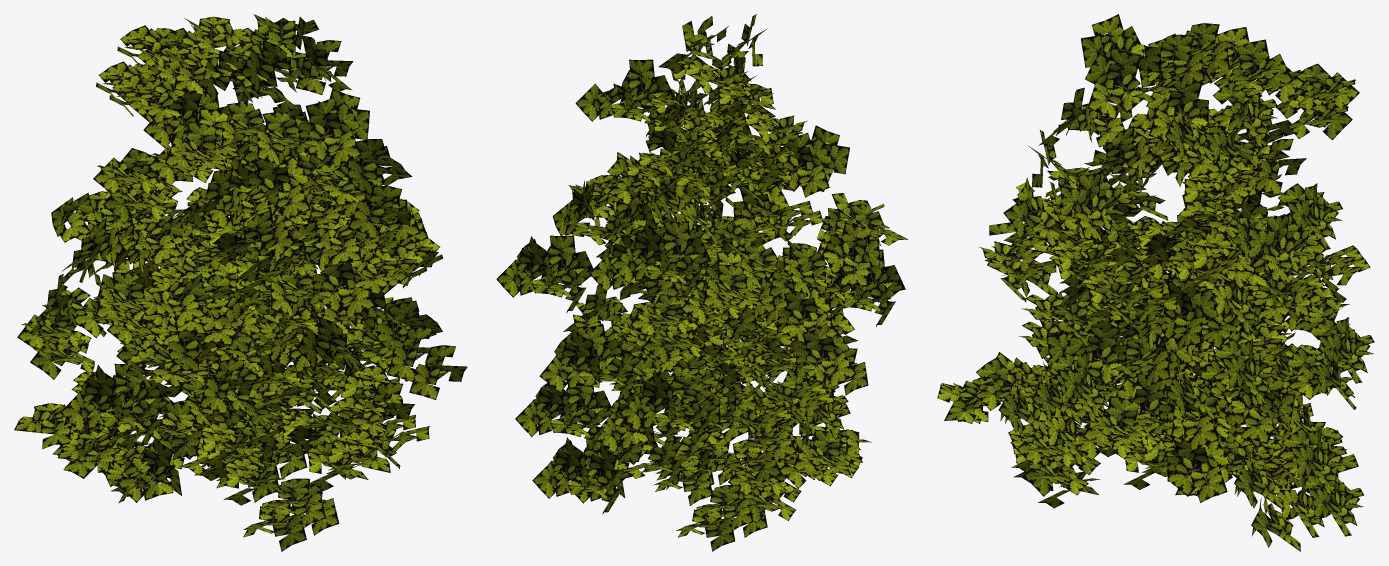
Rendered from Arbol_hojas.obj.
3 renders of one model, left to right at view 1: azimuth 30°, elevation 25°; view 2: azimuth 150°, elevation 25°; view 3: azimuth 270°, elevation 25°, orthographic. The views are drawn at different scales.
Visible parts, largest first — view 1: Arbol_hojas; view 2: Arbol_hojas; view 3: Arbol_hojas.
Part boxes in pixels (left/top/right/bottom): Arbol_hojas: left=14, top=14, right=467, bottom=551; Arbol_hojas: left=496, top=14, right=907, bottom=551; Arbol_hojas: left=937, top=14, right=1374, bottom=551.
Size of the model in its own units: 4.7 by 5.72 by 4.51.
Materials: 2 (2 with a texture image).
